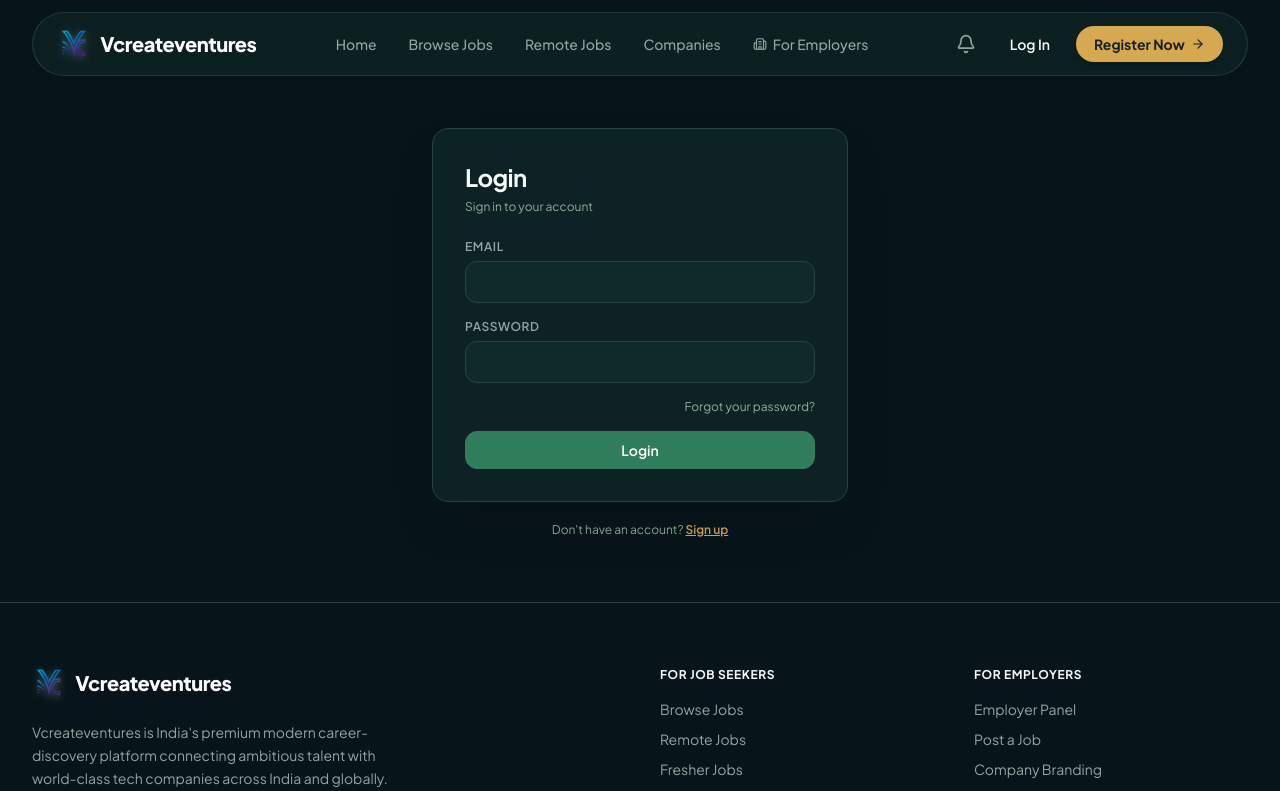
login › login se pehle wali page par wapas aata hai
The width and height of the screenshot is (1280, 791).
Type "candidate@example.com" into the field labelled "Email". click: (640, 282)
box: [465,261,815,303]
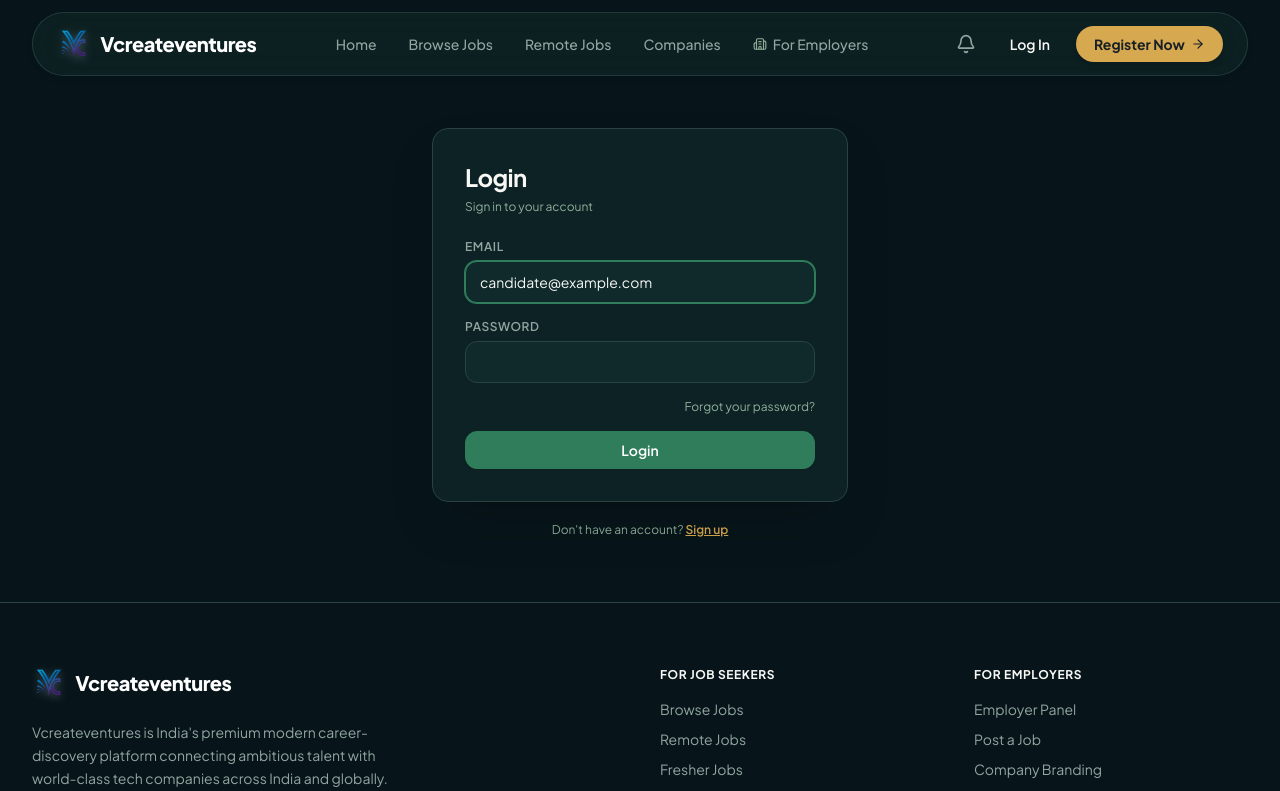
Type "password" into the password field labelled "Password". click: (640, 362)
box: [465,341,815,383]
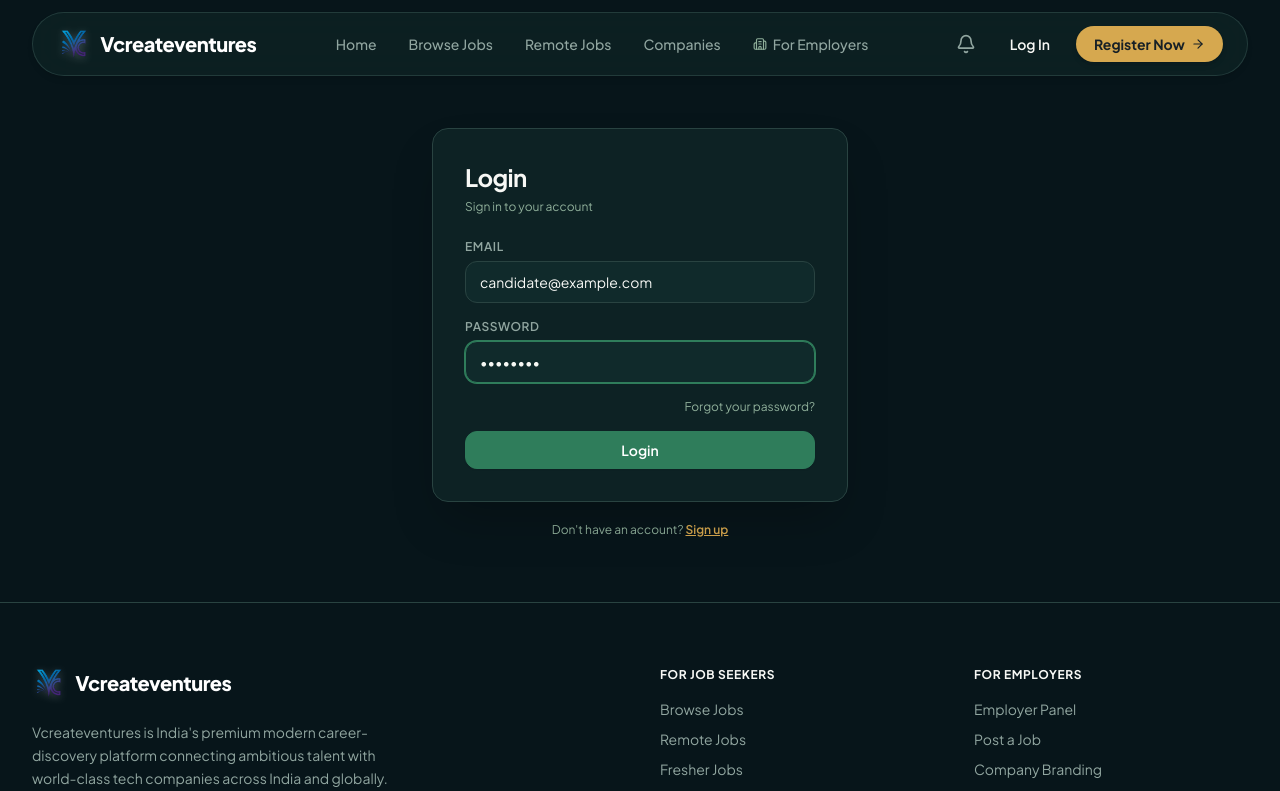
Click the button "Login". click: (640, 450)
box: [465,431,815,469]
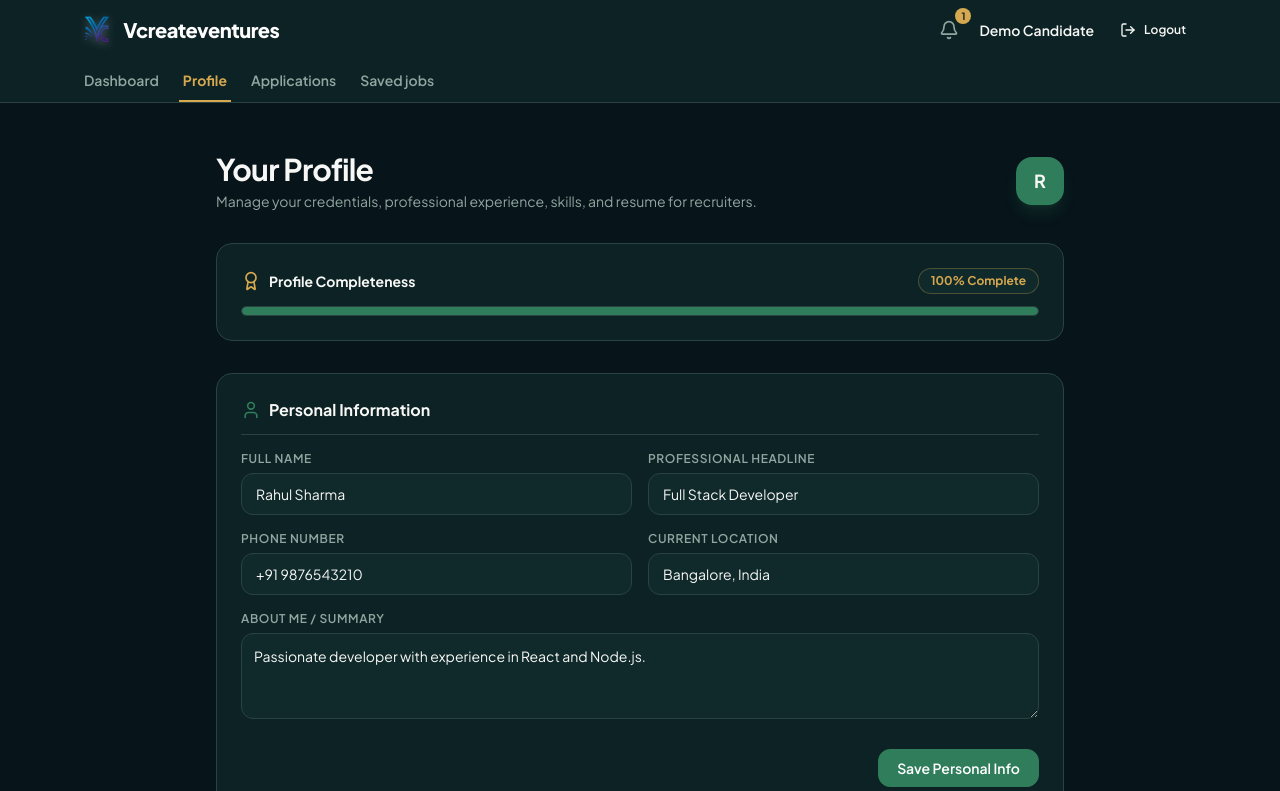
Now the heading "Your Profile" is shown, box [216,150,373,188]
